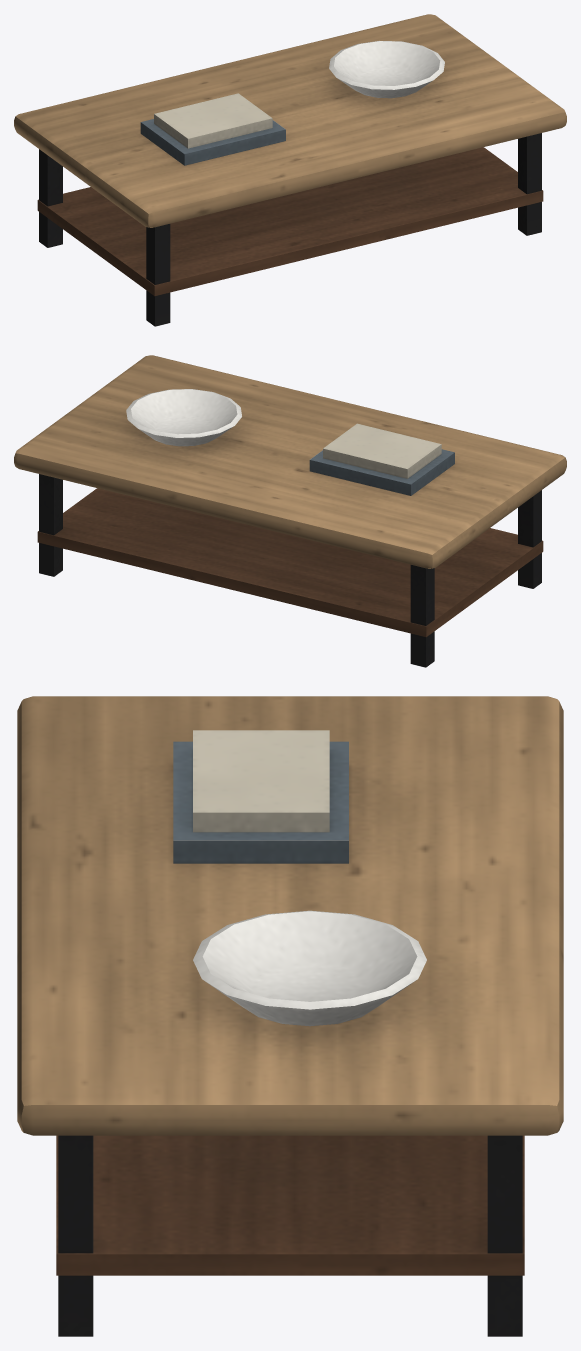
File: H_CoffeeTable.fbx
3 renders of one model, top to bottom at view 1: azimuth 30°, elevation 25°; view 2: azimuth 150°, elevation 25°; view 3: azimuth 270°, elevation 25°, orthographic. The views are drawn at different scales.
Parts seen in each view (by area): view 1: H_CoffeeTable; view 2: H_CoffeeTable; view 3: H_CoffeeTable.
Boxes of the visible parts, bbox=[...] form: H_CoffeeTable: bbox=[14, 14, 566, 326]; H_CoffeeTable: bbox=[14, 355, 566, 667]; H_CoffeeTable: bbox=[17, 696, 563, 1336].
Size of the model in its own units: 500 by 166 by 280.
1 material, 1 textured.
